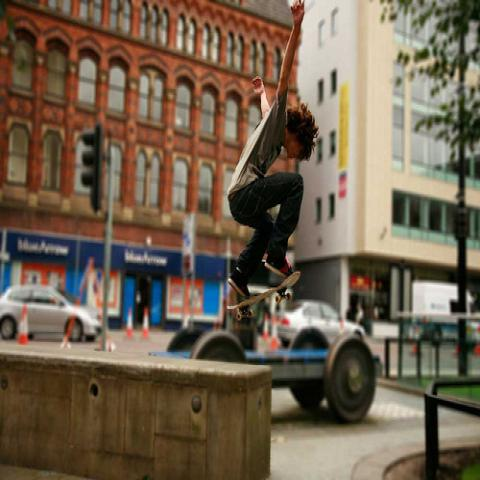car: (0, 284, 98, 341), (274, 296, 364, 346)
truck: (412, 283, 476, 312)
